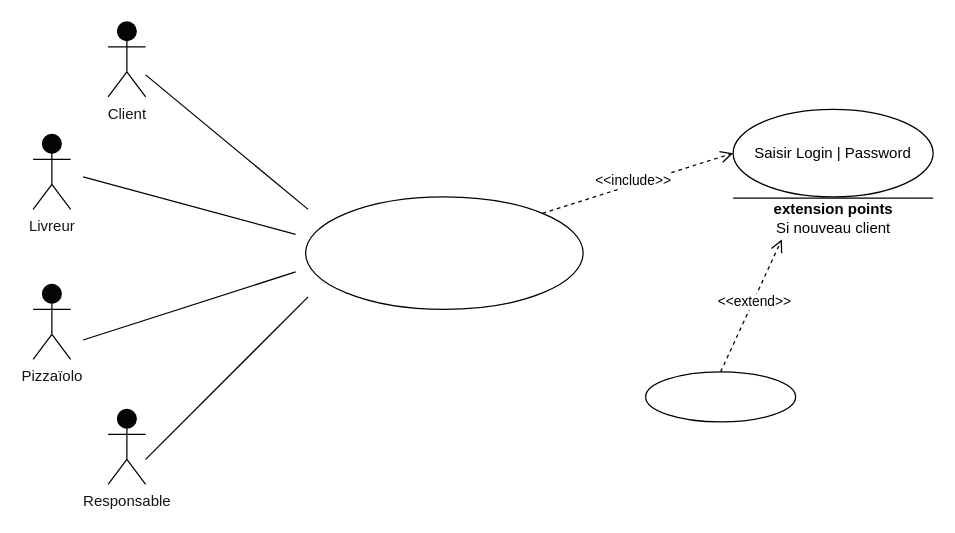
Some shapes in this 955 by 533 pixel diagram are drawn without their labels. Each missing label, with the box of its shape:
Authentification: (304, 196, 583, 309)
Inscription: (644, 371, 796, 422)
